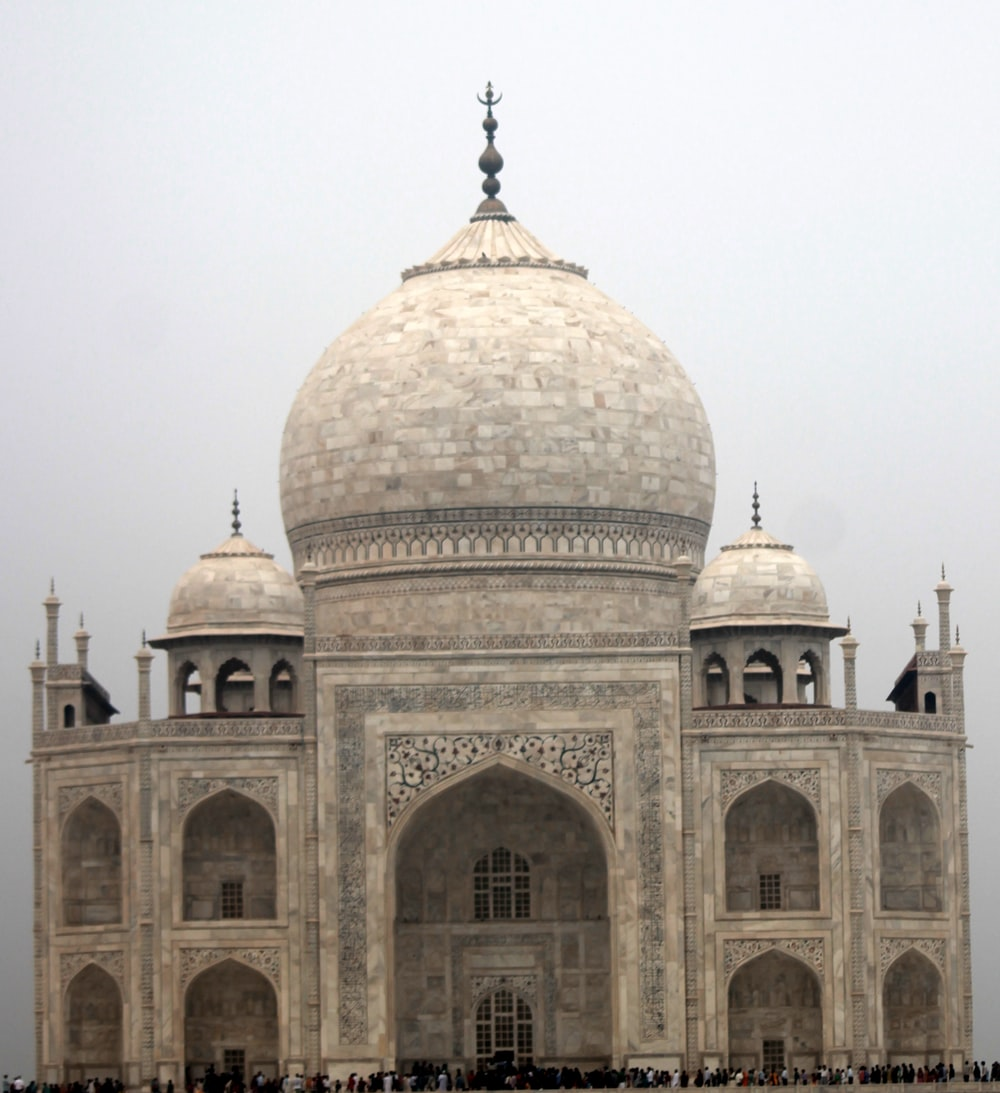Mosque: (24, 98, 979, 1038)
